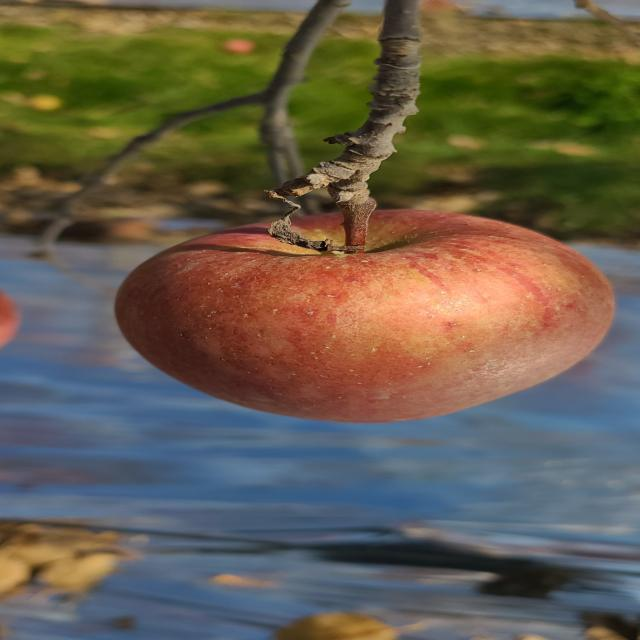fresh: (90, 203, 636, 426)
